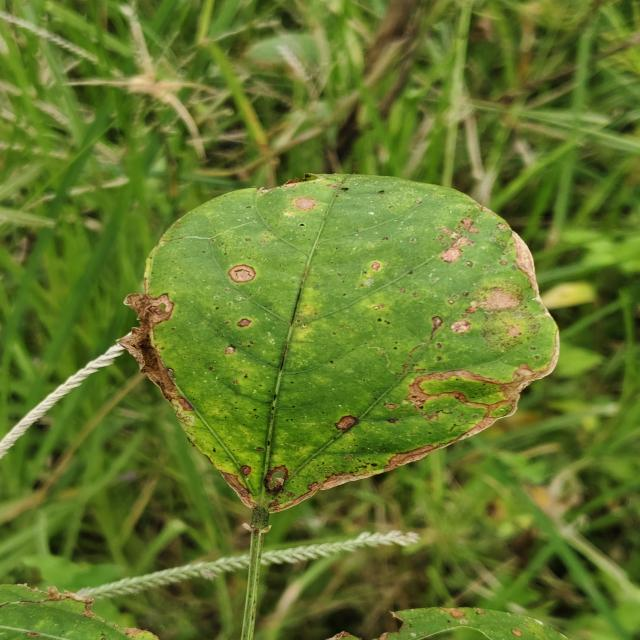sitaw-aphid-low: (118, 174, 559, 534)
